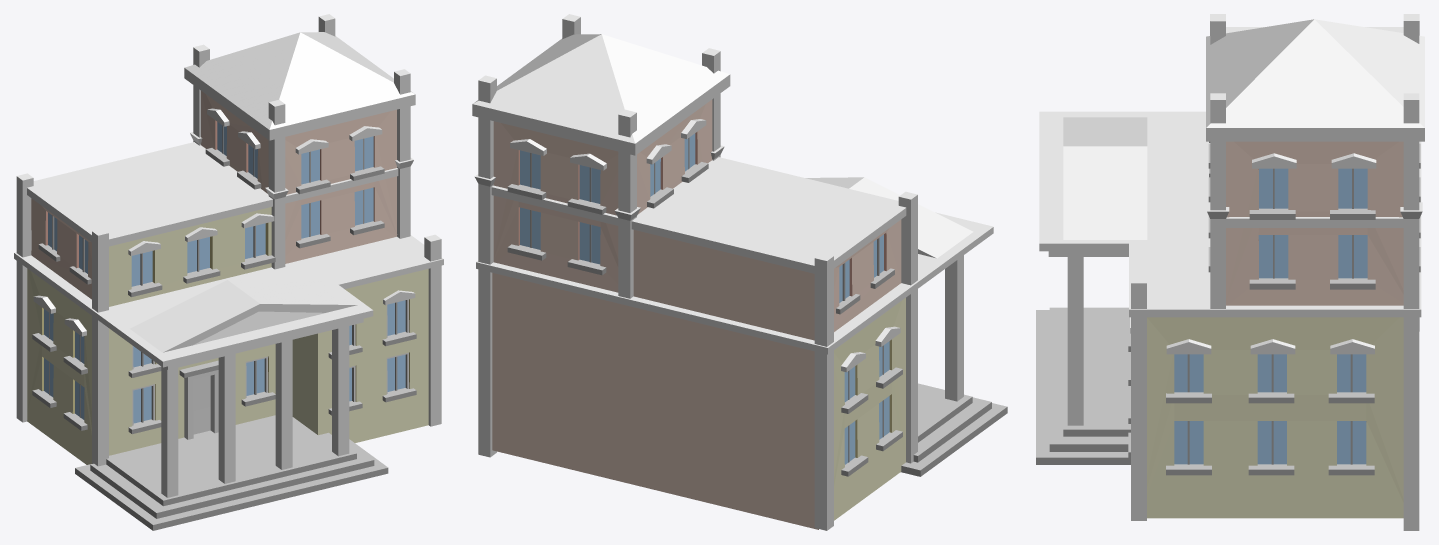
Rendered from house_art_004.fbx.
3 renders of one model, left to right at view 1: azimuth 30°, elevation 25°; view 2: azimuth 150°, elevation 25°; view 3: azimuth 270°, elevation 25°, orthographic. The views are drawn at different scales.
Visible parts, largest first — view 1: house_art_004; view 2: house_art_004; view 3: house_art_004.
Boxes of the visible parts, left/top/right/bottom form: house_art_004: left=14, top=14, right=443, bottom=530; house_art_004: left=472, top=14, right=1007, bottom=530; house_art_004: left=1036, top=14, right=1424, bottom=530.
Size of the model in its own units: 1359 by 1440 by 1084.
